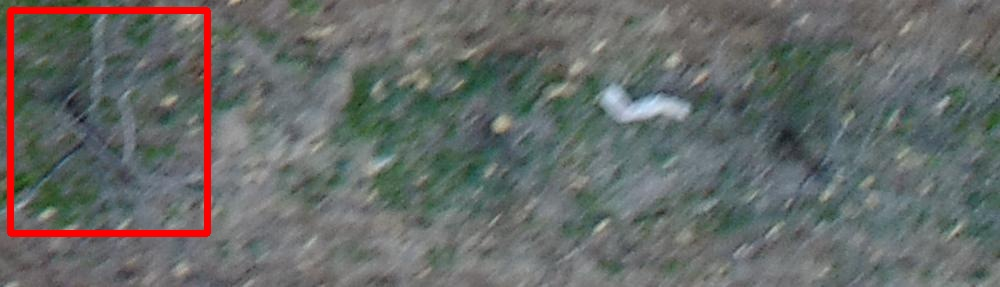apple: (10, 10, 207, 233)
